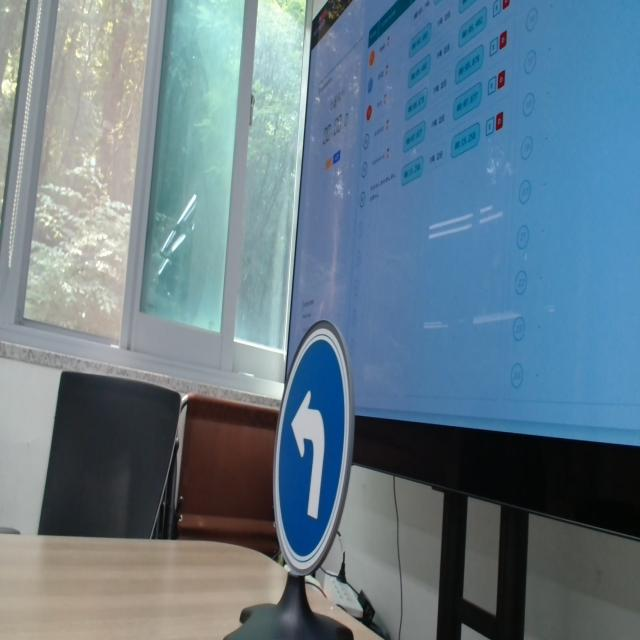left_direction: (263, 313, 361, 586)
